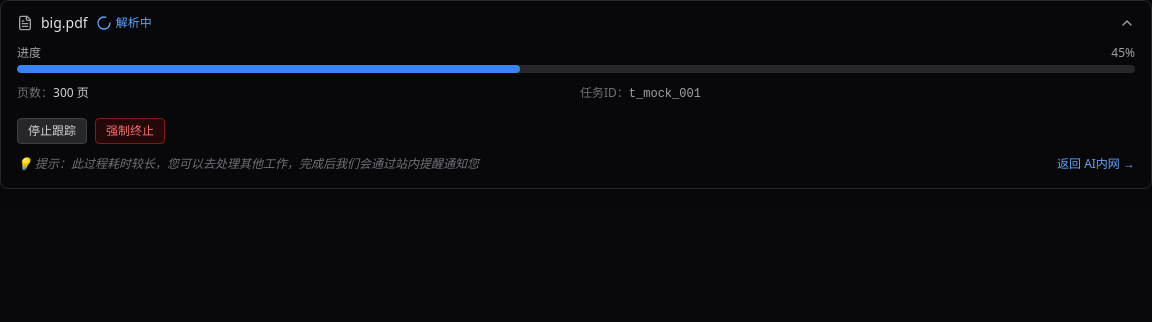
Test: BigpdfProgressCard › shows force cancel confirmation for owner
Click the button "强制终止". click: (130,131)
box: 95,118 -> 165,144
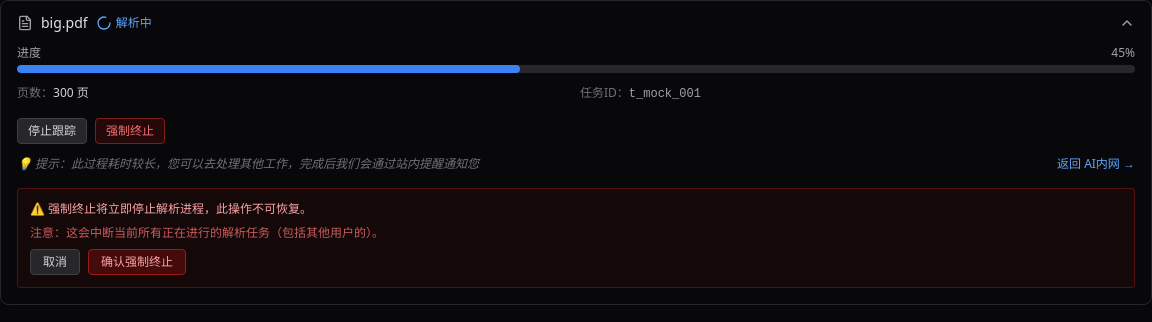
Check: the text "⚠️ 强制终止将立即停止解析进程，此操作不可恢复。" is shown, box 30,200 -> 312,217
